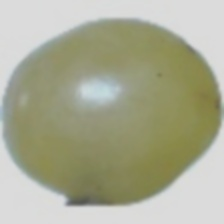grapes: (21, 44, 215, 189)
